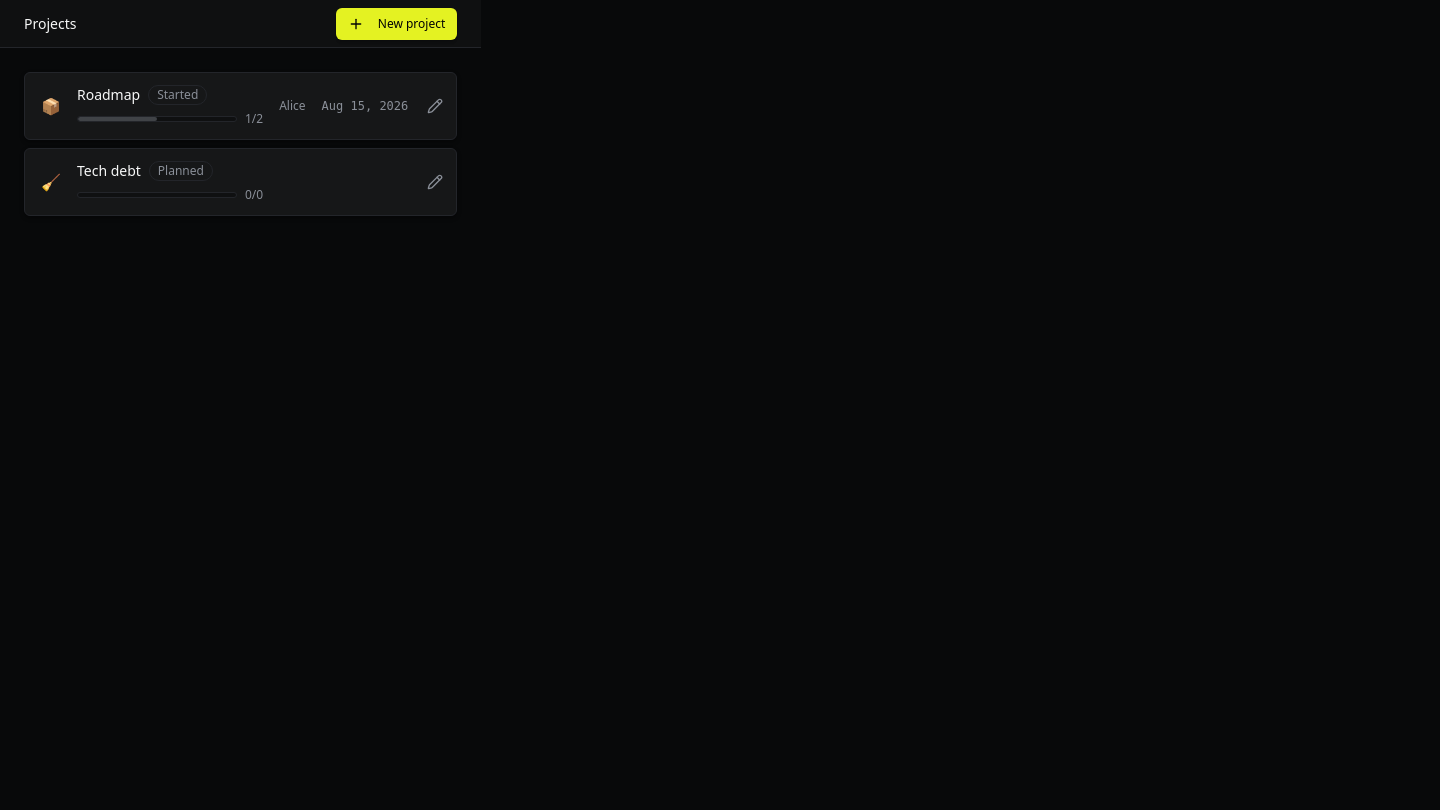
it: ProjectsPage › opens the edit dialog from a row without navigating
Click the button named "Edit Roadmap" at [435, 106], box left=421, top=92, right=449, bottom=120
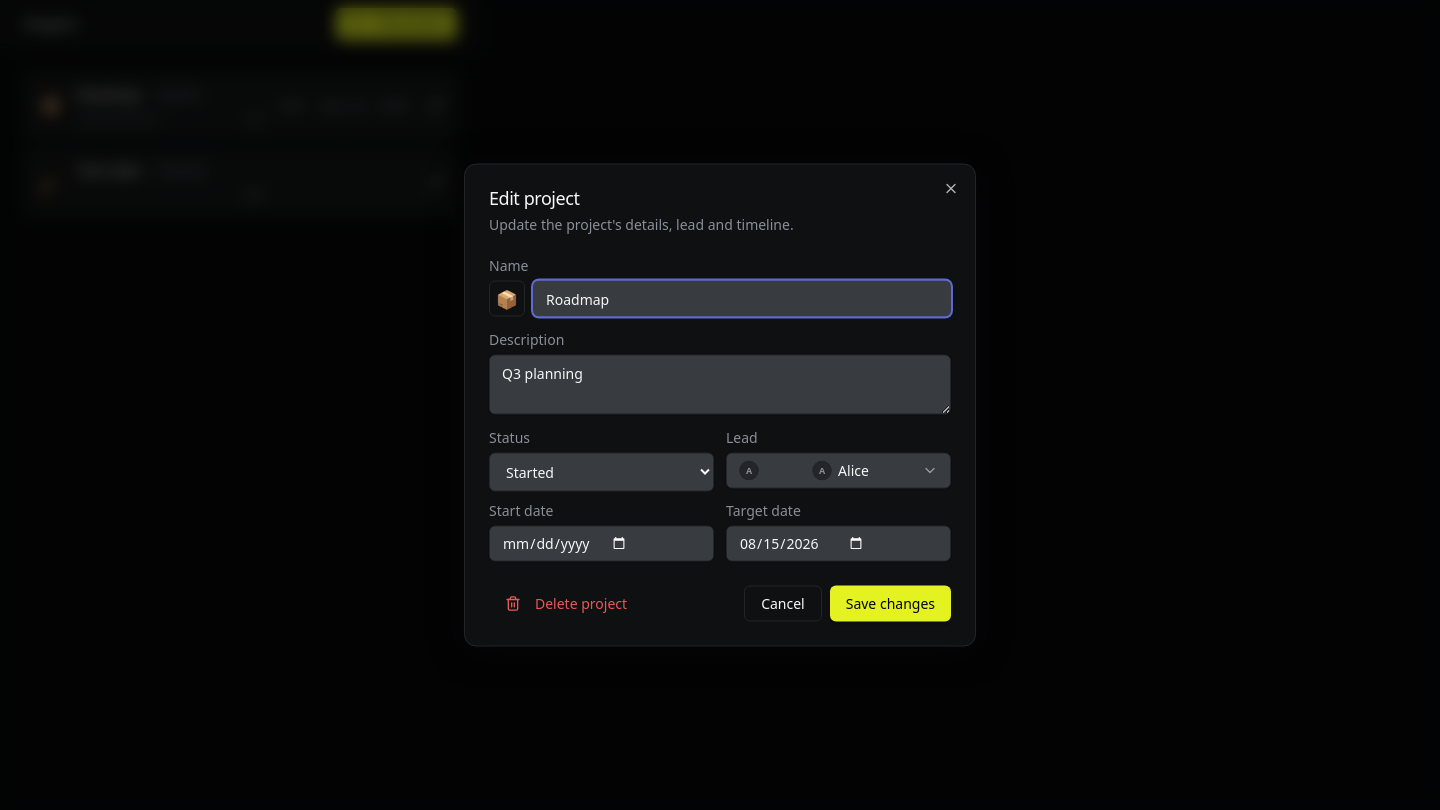
Expected: the heading "Edit project" is shown, left=489, top=186, right=580, bottom=210
Expected: the field labelled "Name" holds "Roadmap", left=533, top=280, right=951, bottom=316
